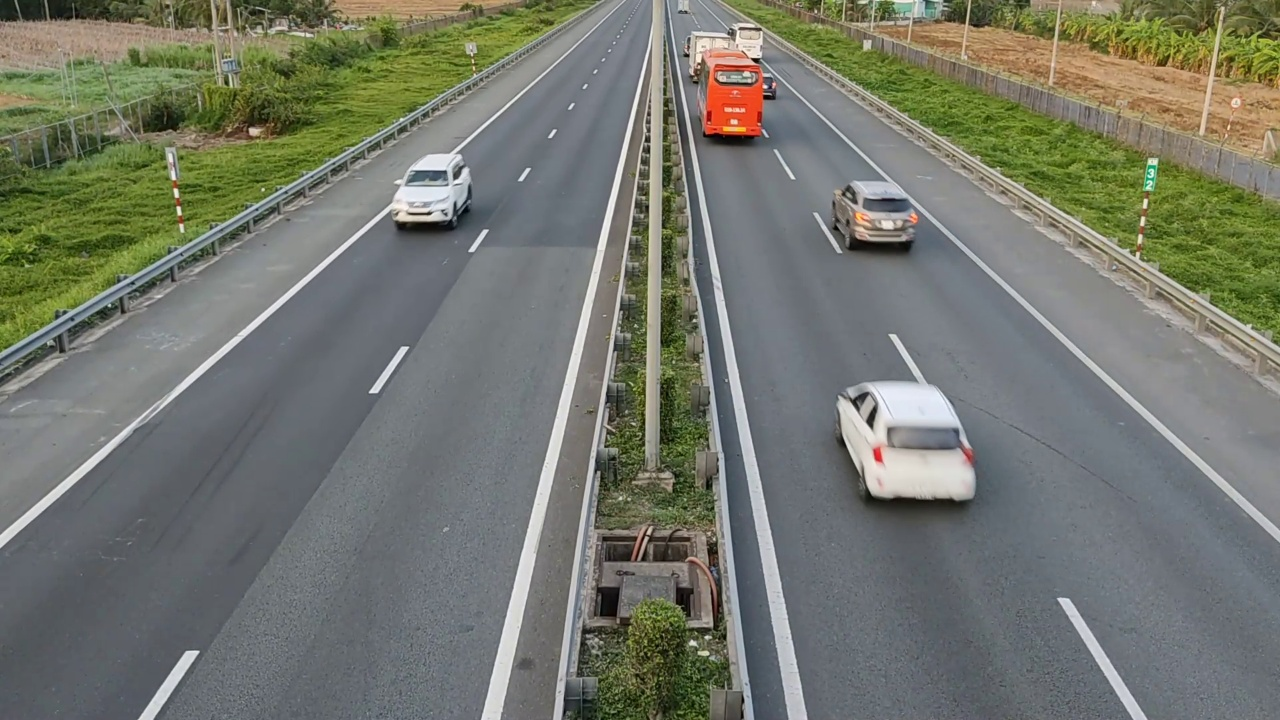bus: (699, 47, 763, 138)
car: (833, 379, 977, 503), (391, 152, 473, 230), (831, 179, 919, 250)
